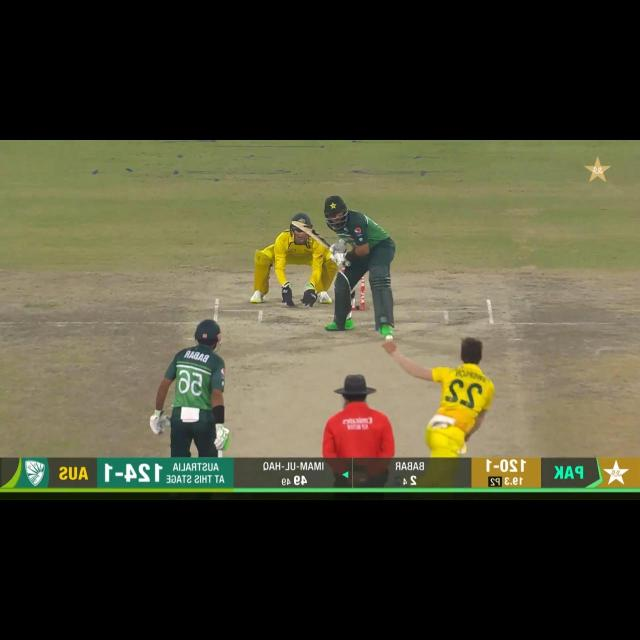bat: (288, 221, 333, 249)
toe: (286, 220, 304, 232)
